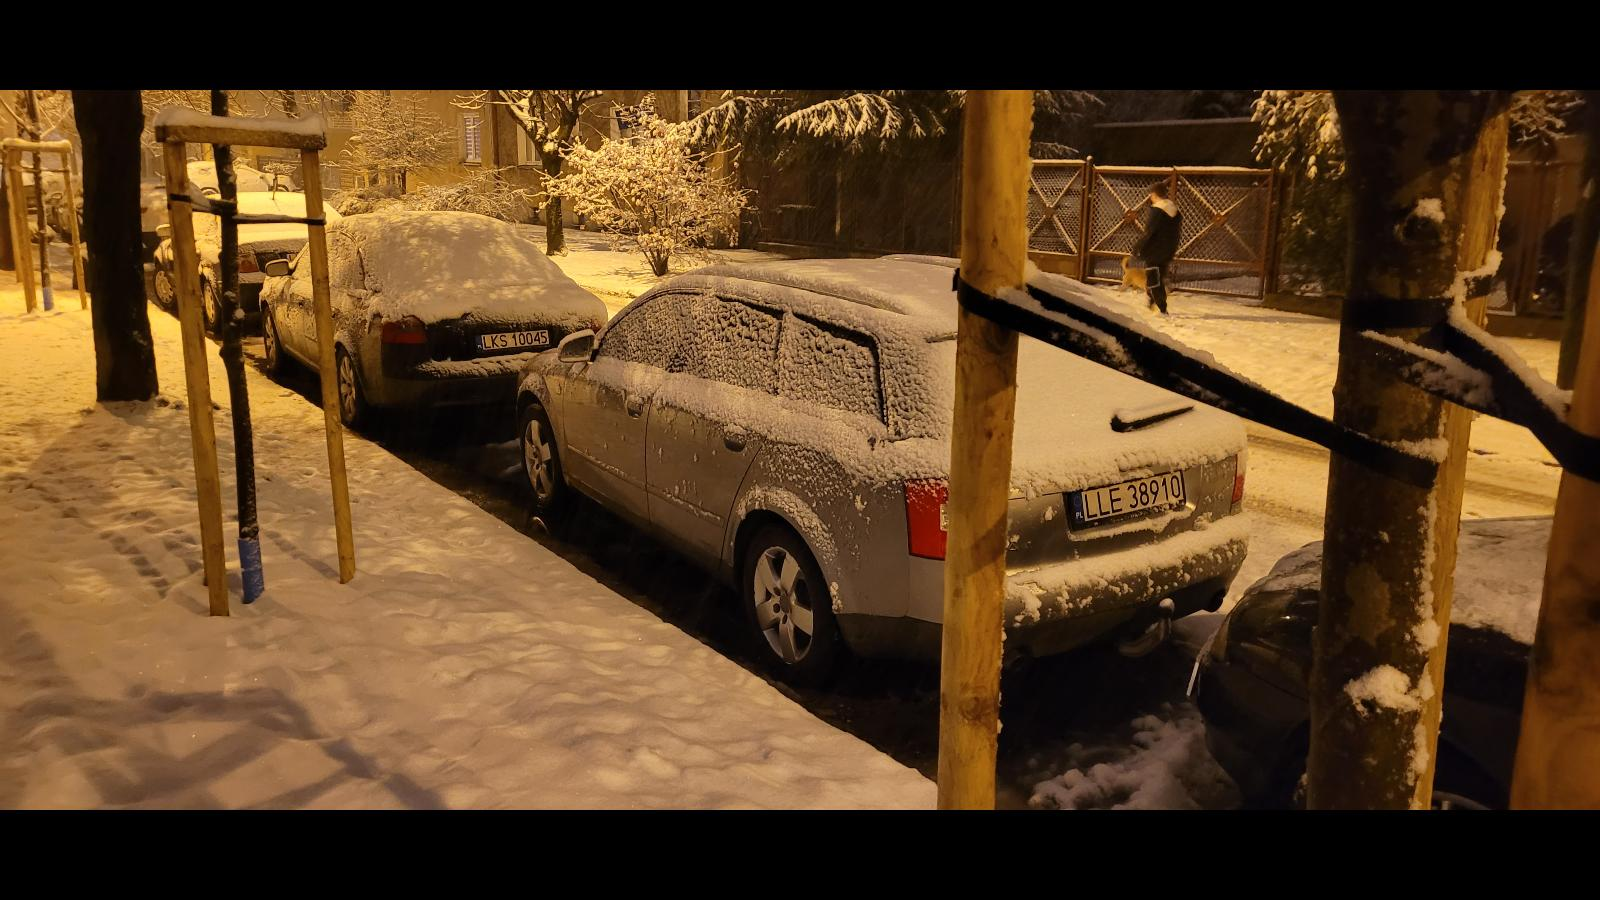plates: (1072, 469, 1186, 528), (476, 329, 550, 353)
